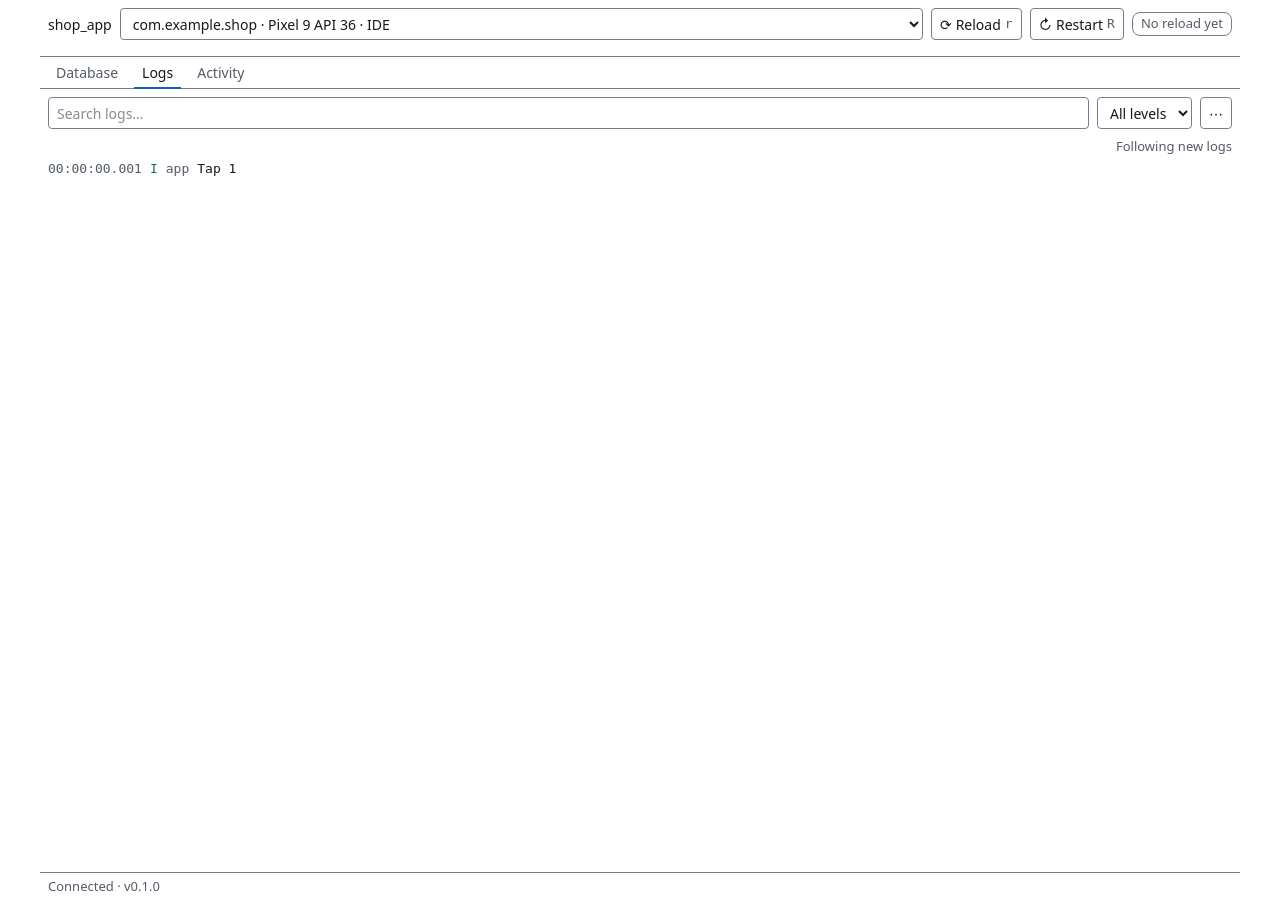
Scenario: Reload / Restart buttons › Loading: "Restarting…" for a restart
Expected: the text "shop_app" is shown, [48,14,112,34]
Click the button "↻ Restart R" at [1077, 24], box [1030,8,1124,40]
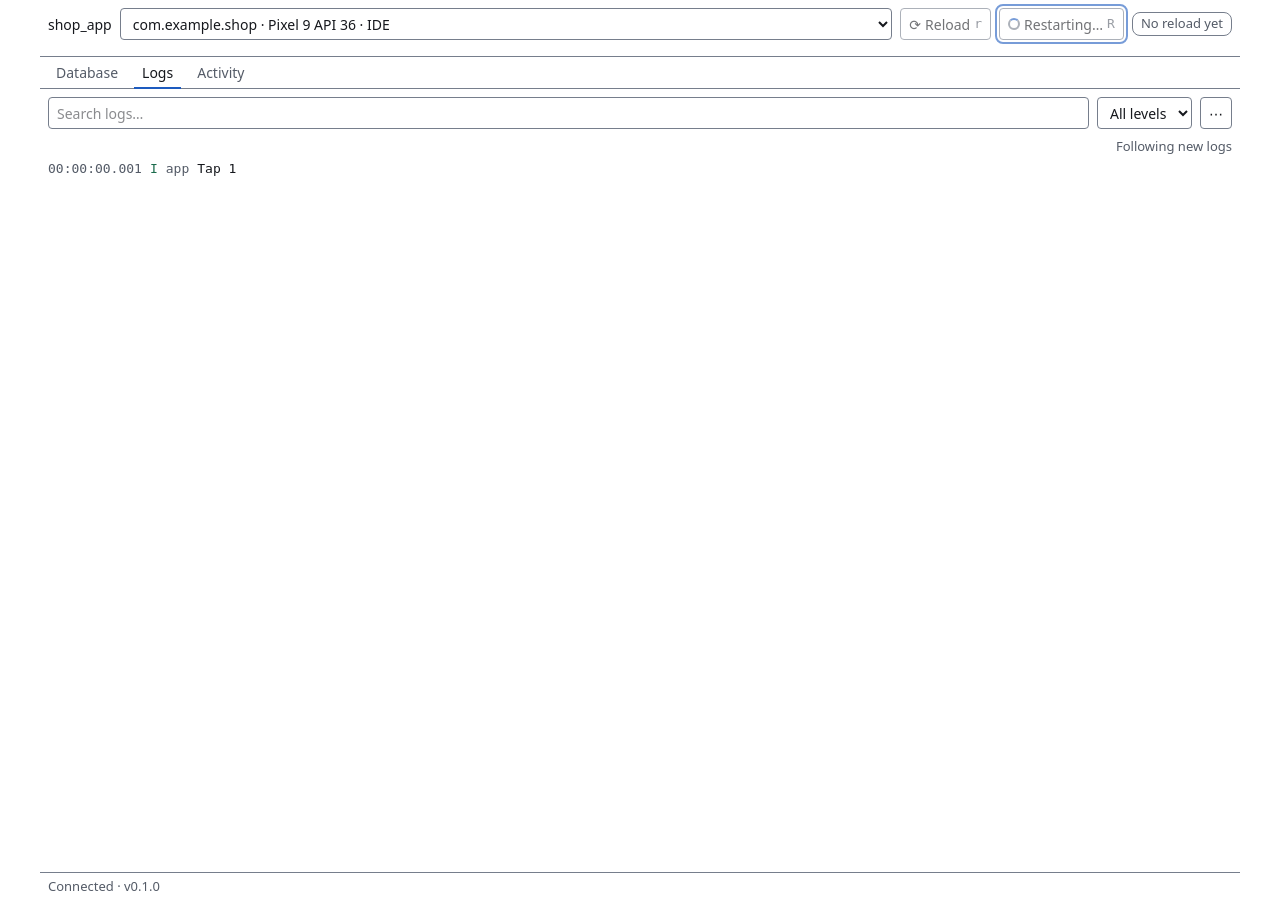
Expected: the button "Restarting… R" is shown, [999,8,1124,40]
